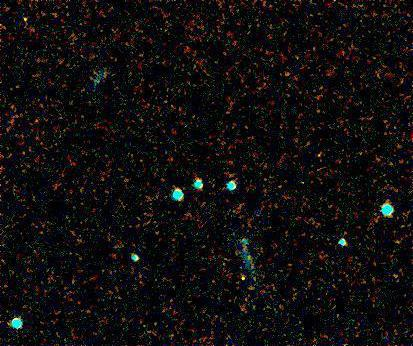star: (235, 262, 265, 292)
